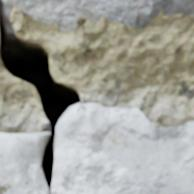brick: (0, 0, 193, 32)
broken_brick: (51, 104, 193, 193), (0, 132, 50, 193)
crack: (0, 1, 80, 193)
